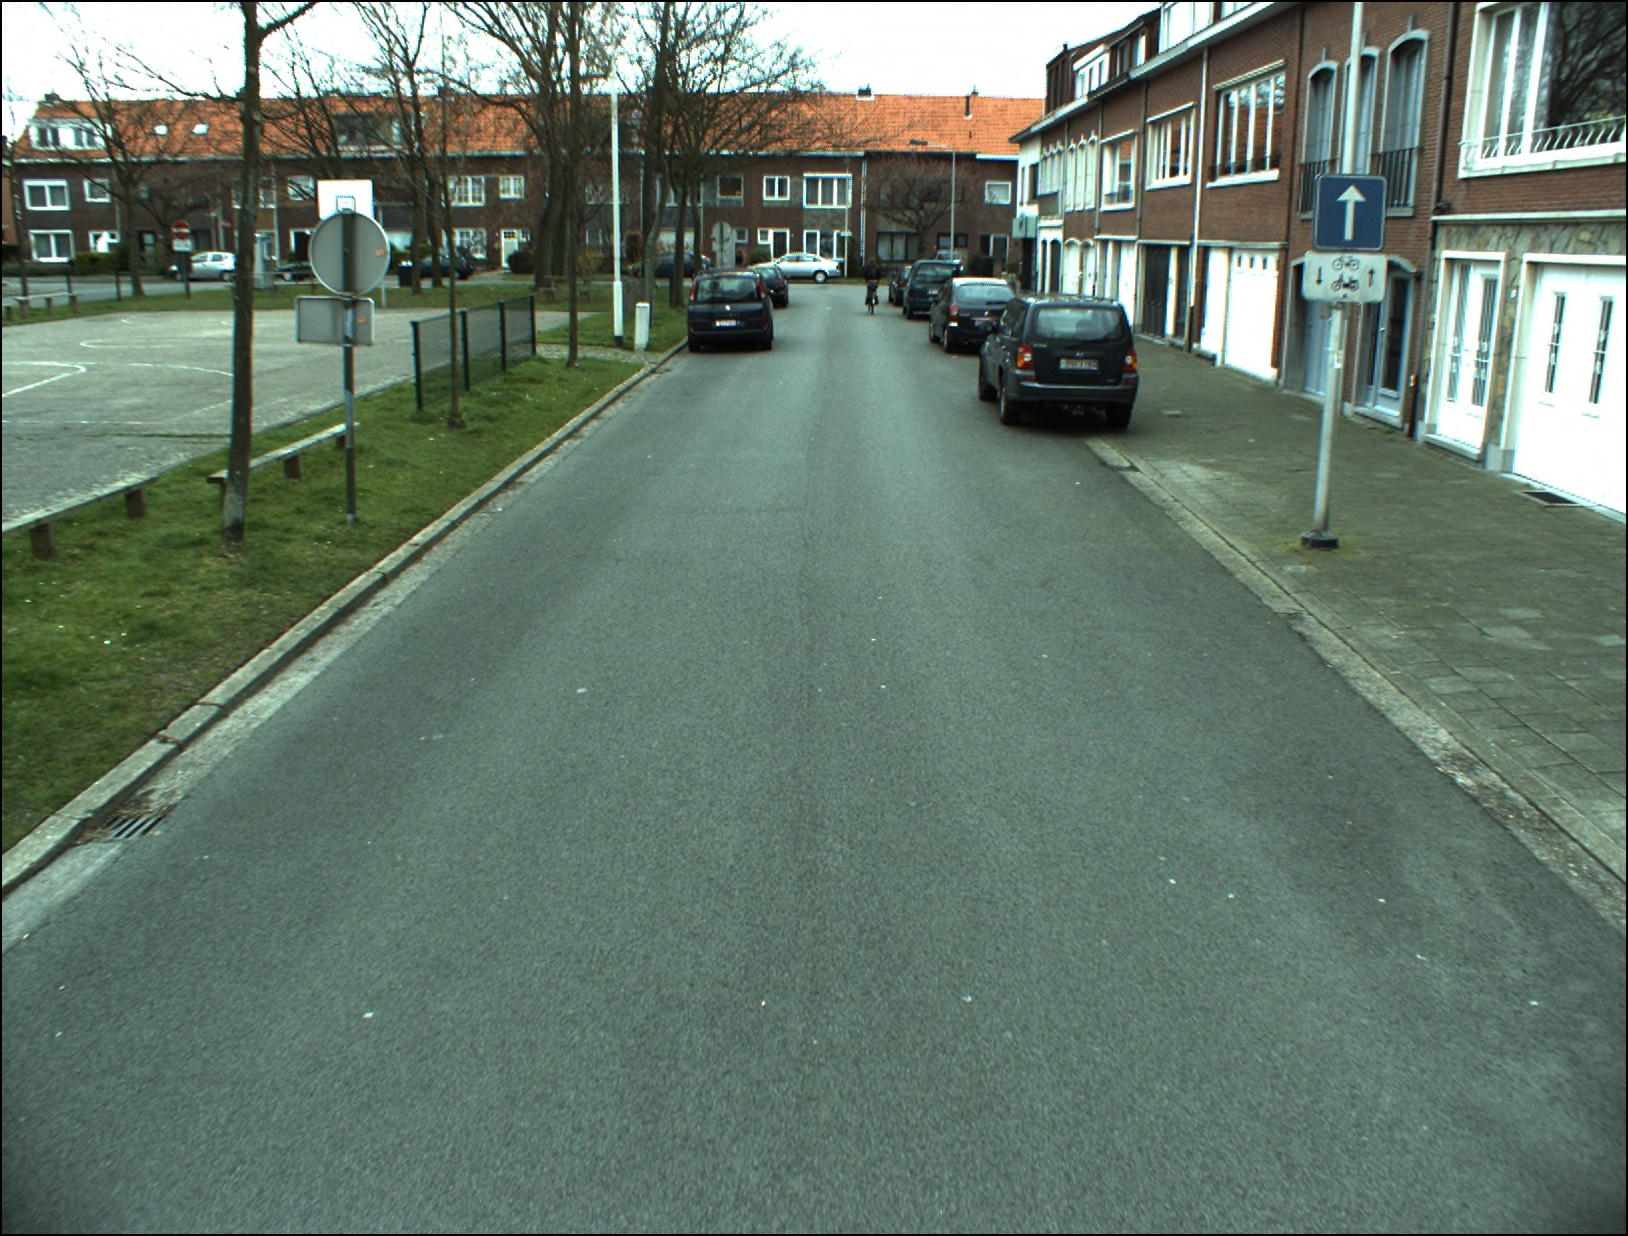oneway: (1314, 175, 1387, 251)
